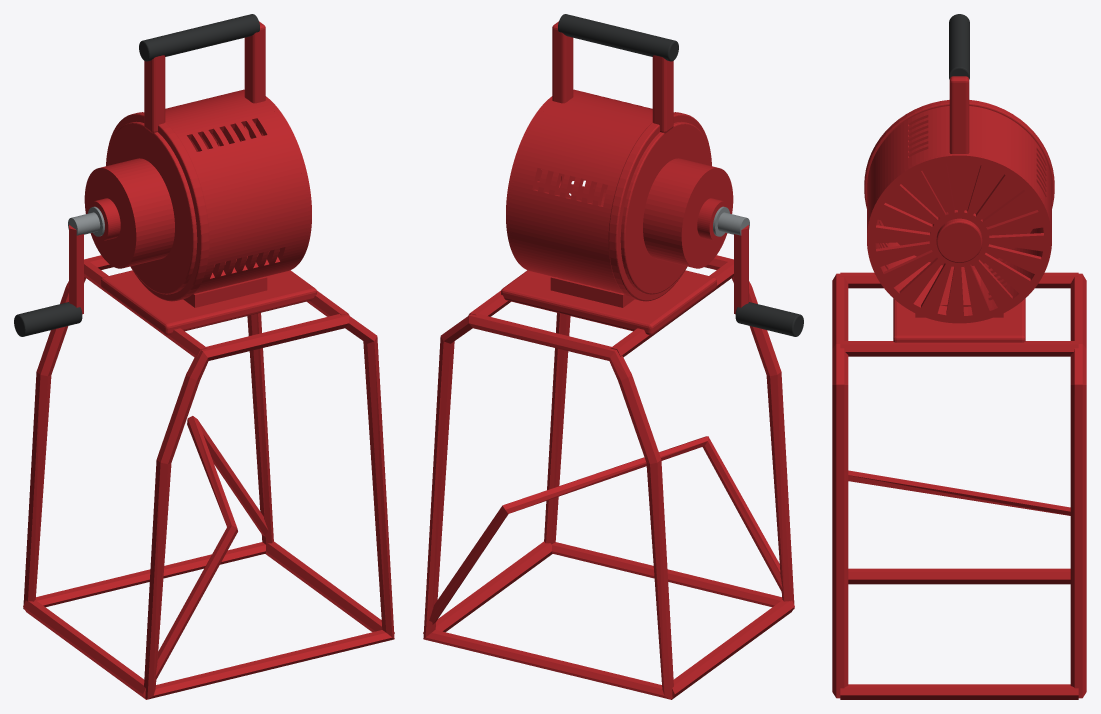
3 views of the same model, side by side, from view 1: azimuth 30°, elevation 25°; view 2: azimuth 150°, elevation 25°; view 3: azimuth 270°, elevation 25° (orthographic).
Visible parts, largest first — view 1: Vented thick barrel shell, bent support loop, bent support loop.001, Rear gearbox with axial bore, rear closed cover, saddle plate, lower diagonal brace, reinforced rear casing band, carry grip, frame cross tube.002, frame cross tube.003, handle post rear (+8 smaller); view 2: Vented thick barrel shell, bent support loop.001, bent support loop, Rear gearbox with axial bore, rear closed cover, saddle plate, lower diagonal brace, reinforced rear casing band, carry grip, frame cross tube.002, frame cross tube.003, handle post rear (+8 smaller); view 3: Radially slotted front plate, Vented thick barrel shell, bent support loop, bent support loop.001, reinforced rear casing band, frame cross tube.002, frame cross tube.003, saddle plate, frame cross tube.001, lower diagonal brace, front hub, handle post front (+3 smaller).
Boxes of the visible parts, box(x1,y1,x2,y2) form: Vented thick barrel shell: box(165, 90, 309, 293); bent support loop: box(144, 314, 394, 699); bent support loop.001: box(23, 255, 273, 609); Rear gearbox with axial bore: box(84, 158, 174, 268); rear closed cover: box(106, 121, 197, 294); saddle plate: box(101, 270, 316, 335); lower diagonal brace: box(155, 416, 268, 679); reinforced rear casing band: box(106, 112, 209, 301); carry grip: box(139, 14, 259, 61); frame cross tube.002: box(23, 600, 146, 699); frame cross tube.003: box(264, 541, 394, 633); handle post rear: box(144, 55, 165, 133); Vented thick barrel shell: box(508, 90, 652, 293); bent support loop.001: box(423, 314, 673, 699); bent support loop: box(544, 255, 794, 609); Rear gearbox with axial bore: box(643, 158, 733, 268); rear closed cover: box(620, 121, 711, 294); saddle plate: box(501, 270, 716, 335); lower diagonal brace: box(429, 436, 782, 624); reinforced rear casing band: box(608, 112, 711, 301); carry grip: box(558, 14, 678, 61); frame cross tube.002: box(671, 600, 794, 699); frame cross tube.003: box(423, 541, 553, 633); handle post rear: box(652, 55, 673, 133); Radially slotted front plate: box(867, 153, 1051, 323); Vented thick barrel shell: box(867, 106, 1051, 313); bent support loop: box(832, 273, 848, 698); bent support loop.001: box(1070, 273, 1086, 698); reinforced rear casing band: box(864, 100, 1054, 266); frame cross tube.002: box(848, 568, 1070, 584); frame cross tube.003: box(840, 684, 1078, 699); saddle plate: box(893, 298, 1025, 342); frame cross tube.001: box(840, 341, 1078, 356); lower diagonal brace: box(848, 470, 1070, 515); front hub: box(936, 218, 982, 262); handle post front: box(949, 76, 969, 153).
Bounding box in the file's own units: 0.4098 × 0.7448 × 0.288.
